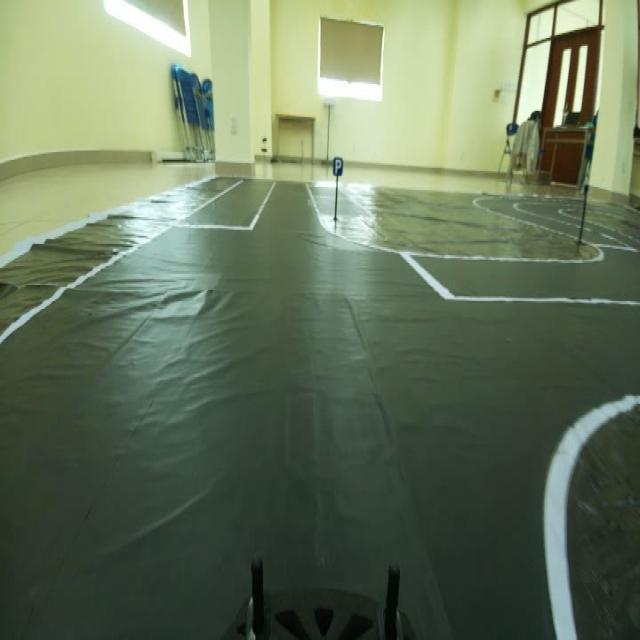parking: (329, 145, 346, 181)
